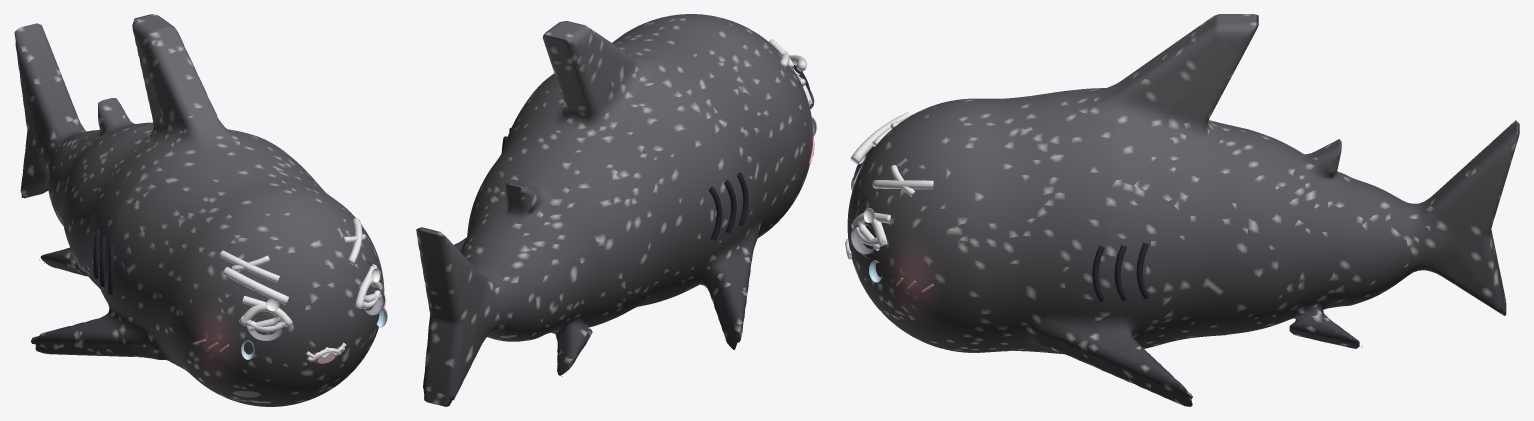
File: s_shark_black_slime.glb
3 views of the same model, side by side, from view 1: azimuth 30°, elevation 25°; view 2: azimuth 150°, elevation 25°; view 3: azimuth 270°, elevation 25° (orthographic). The views are drawn at different scales.
Parts seen in each view (by area): view 1: BodyMesh, face_eyes_normal, face_brows_angry, face_eyes_happy, face_brow_smug, face_eyes_strain, face_eyes_closed; view 2: BodyMesh; view 3: BodyMesh, face_eyes_normal, face_brows_angry.
Boxes of the visible parts, box(x1,y1,x2,y2) form: BodyMesh: box(14, 14, 385, 406); face_eyes_normal: box(248, 260, 385, 343); face_brows_angry: box(219, 218, 362, 282); face_eyes_happy: box(239, 277, 383, 326); face_brow_smug: box(223, 266, 288, 304); face_eyes_strain: box(242, 264, 381, 331); face_eyes_closed: box(240, 283, 382, 332); BodyMesh: box(416, 14, 814, 406); BodyMesh: box(847, 14, 1519, 406); face_eyes_normal: box(851, 146, 874, 258); face_brows_angry: box(872, 114, 933, 189).
Bounding box in the file's own units: 1.68 × 1.61 × 3.07.
